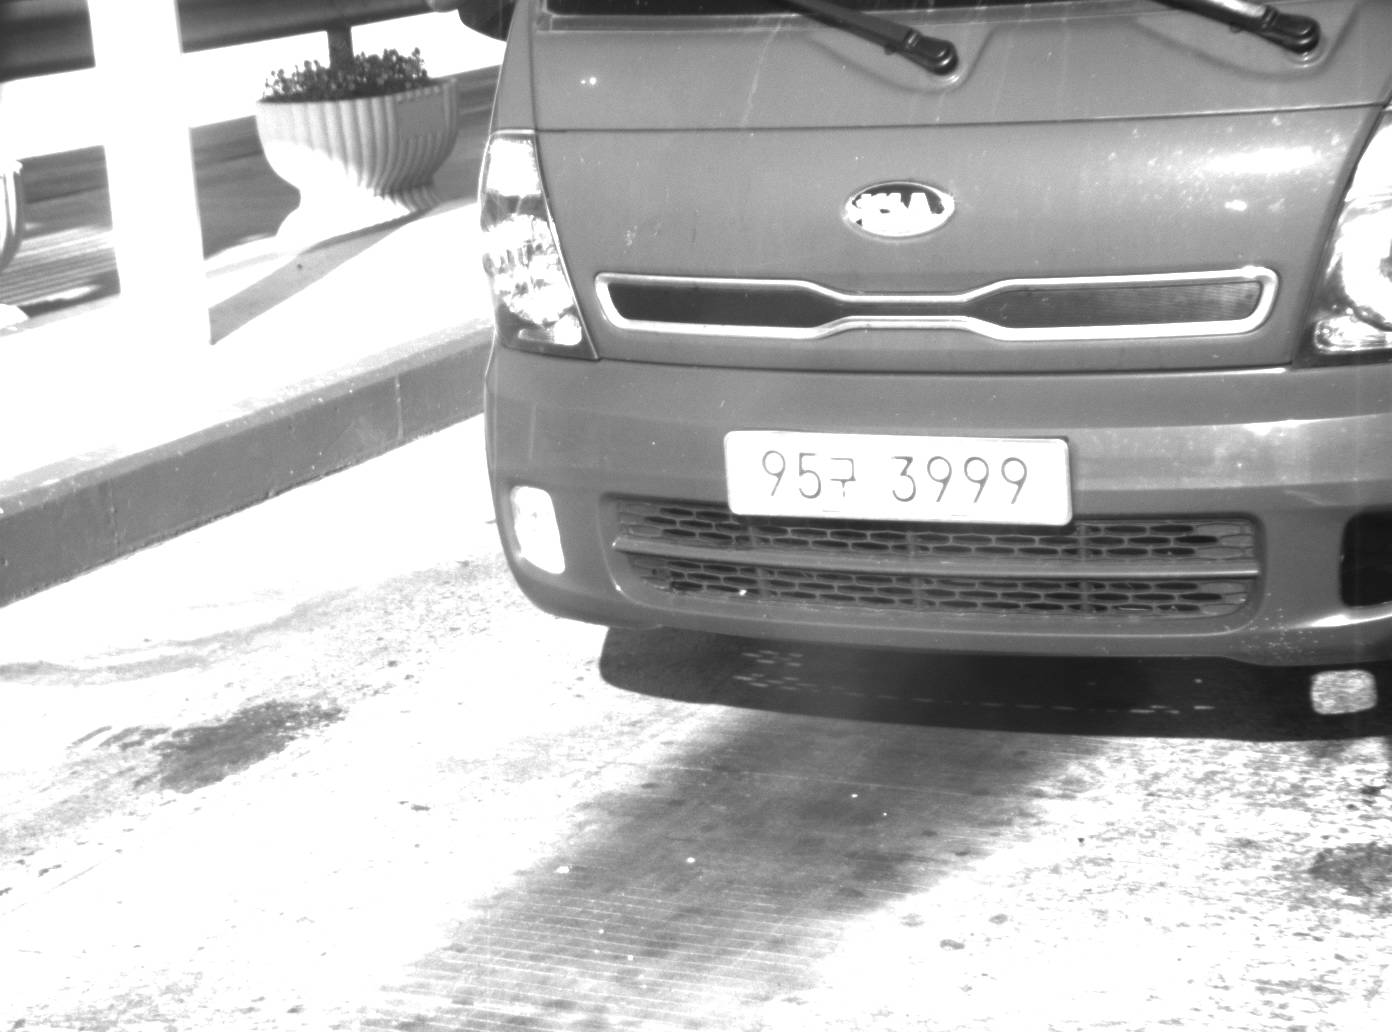car: (452, 1, 1392, 669)
plate: (722, 427, 1077, 527)
